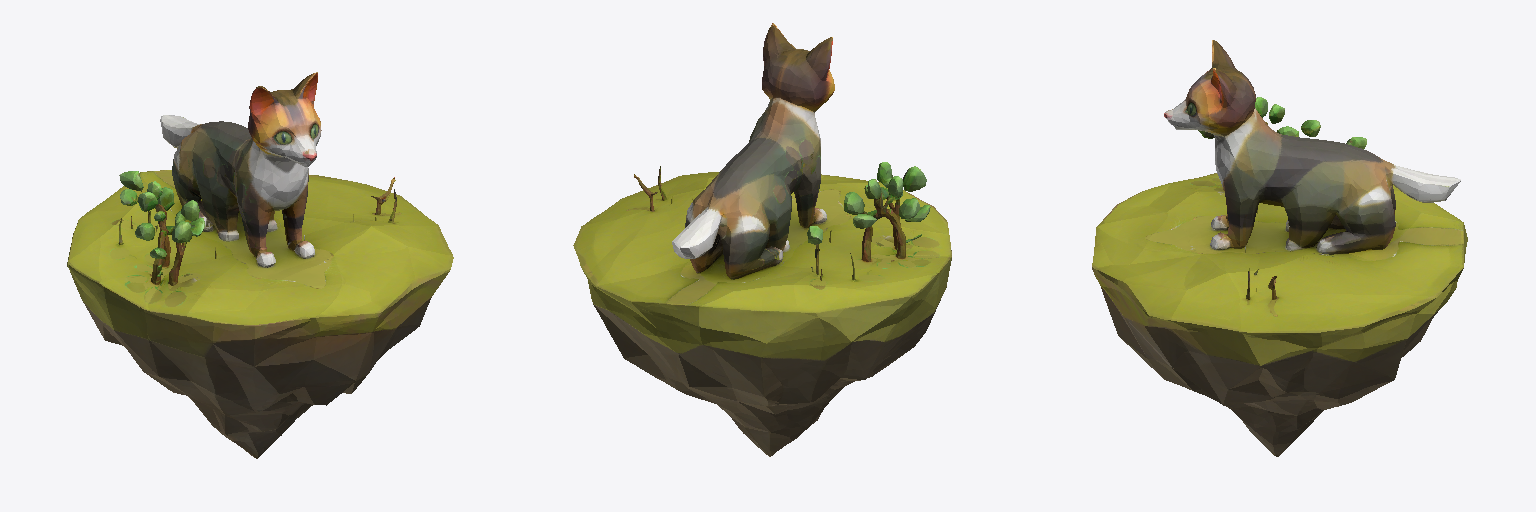
The picture shows the model from 3 angles: view 1: azimuth 30°, elevation 25°; view 2: azimuth 150°, elevation 25°; view 3: azimuth 270°, elevation 25°; orthographic projection.
Visible parts, largest first — view 1: A_poly_cat_on_a_float_[number redacted]_texture; view 2: A_poly_cat_on_a_float_[number redacted]_texture; view 3: A_poly_cat_on_a_float_[number redacted]_texture.
Part boxes in pixels (x1,y1,x2,y2): A_poly_cat_on_a_float_[number redacted]_texture: (67,72,453,458); A_poly_cat_on_a_float_[number redacted]_texture: (573,23,951,456); A_poly_cat_on_a_float_[number redacted]_texture: (1092,40,1467,456).
Size of the model in its own units: 1.72 by 2 by 1.69.
1 materials, 1 textured.